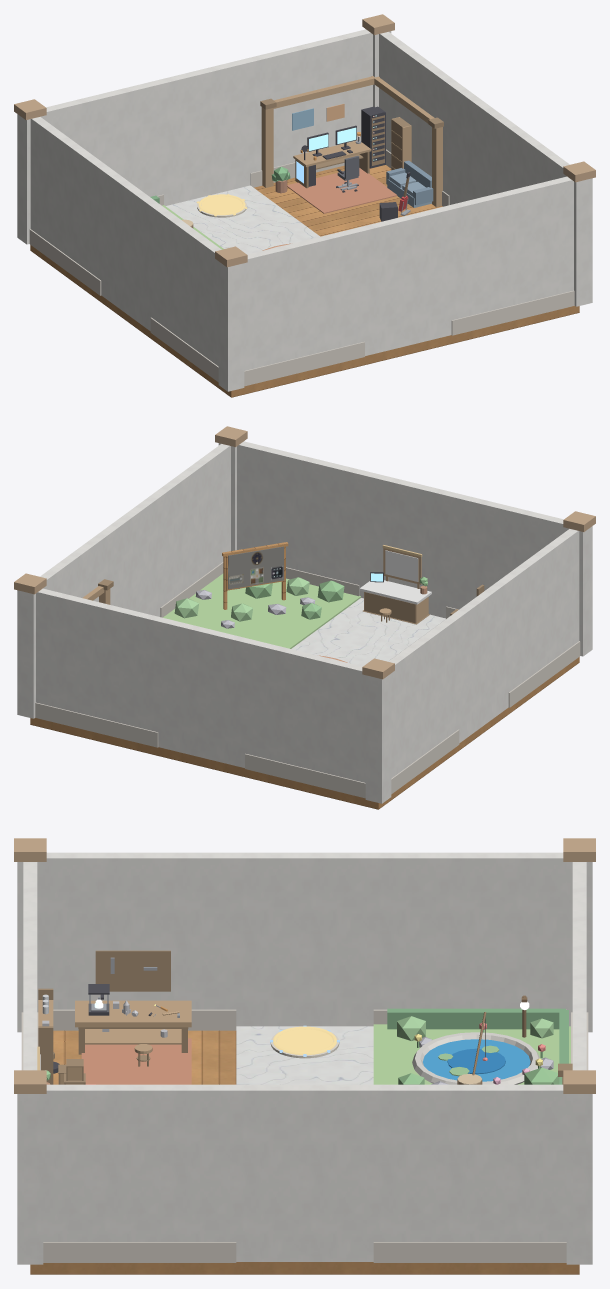
File: hub.glb
3 renders of one model, top to bottom at view 1: azimuth 30°, elevation 25°; view 2: azimuth 150°, elevation 25°; view 3: azimuth 270°, elevation 25°, orthographic. The views are drawn at different scales.
Visible parts, largest first — view 1: Wall.002, Wall.003, ArchFill_S, ArchFill_N, Wall, Wall.006, Wall.001, Wall.007, Floor, ArchFill_W, Wall.004, ArchFill_E (+20 smaller); view 2: Wall, Wall.001, Wall.002, ArchFill_N, Wall.007, ArchFill_S, Wall.005, Wall.003, Wall.006, ArchFill_W, Sign_Grass, ArchFill_E (+19 smaller); view 3: Wall.004, Wall.005, Wall.006, Wall.007, ArchFill_E, ArchFill_W, Floor, Path_EW, CornerPost, CornerPost.001, Mk_Rug, WallBase.004 (+25 smaller).
Boxes of the visible parts, bbox=[...] form: Wall.002: bbox=[447, 176, 573, 320]; Wall.003: bbox=[244, 227, 364, 370]; ArchFill_S: bbox=[359, 206, 451, 355]; ArchFill_N: bbox=[159, 58, 250, 205]; Wall: bbox=[246, 29, 372, 172]; Wall.006: bbox=[30, 117, 109, 280]; Wall.001: bbox=[43, 80, 163, 196]; Wall.007: bbox=[151, 204, 221, 366]; Floor: bbox=[30, 165, 579, 397]; ArchFill_W: bbox=[101, 168, 159, 331]; Wall.004: bbox=[379, 32, 457, 195]; ArchFill_E: bbox=[449, 83, 507, 204]; Wall: bbox=[36, 588, 162, 732]; Wall.001: bbox=[245, 639, 365, 782]; Wall.002: bbox=[237, 441, 363, 584]; ArchFill_N: bbox=[158, 618, 249, 767]; Wall.007: bbox=[500, 529, 579, 692]; ArchFill_S: bbox=[359, 470, 450, 618]; Wall.005: bbox=[152, 444, 230, 607]; Wall.003: bbox=[446, 492, 566, 609]; Wall.006: bbox=[388, 616, 458, 778]; ArchFill_W: bbox=[450, 580, 508, 743]; Sign_Grass: bbox=[163, 573, 360, 648]; ArchFill_E: bbox=[102, 495, 160, 616]; Wall.004: bbox=[373, 1084, 566, 1241]; Wall.005: bbox=[43, 1084, 236, 1241]; Wall.006: bbox=[373, 852, 566, 1009]; Wall.007: bbox=[43, 852, 236, 1009]; ArchFill_E: bbox=[236, 1084, 373, 1261]; ArchFill_W: bbox=[236, 852, 373, 1026]; Floor: bbox=[30, 1030, 579, 1274]; Path_EW: bbox=[236, 1026, 373, 1084]; CornerPost: bbox=[566, 1094, 592, 1264]; CornerPost.001: bbox=[17, 1094, 43, 1264]; Mk_Rug: bbox=[81, 1038, 191, 1084]; WallBase.004: bbox=[373, 1242, 566, 1262].
Bounding box in the file's own units: 16.95 × 6.34 × 16.95.
61 materials, 4 textured.
